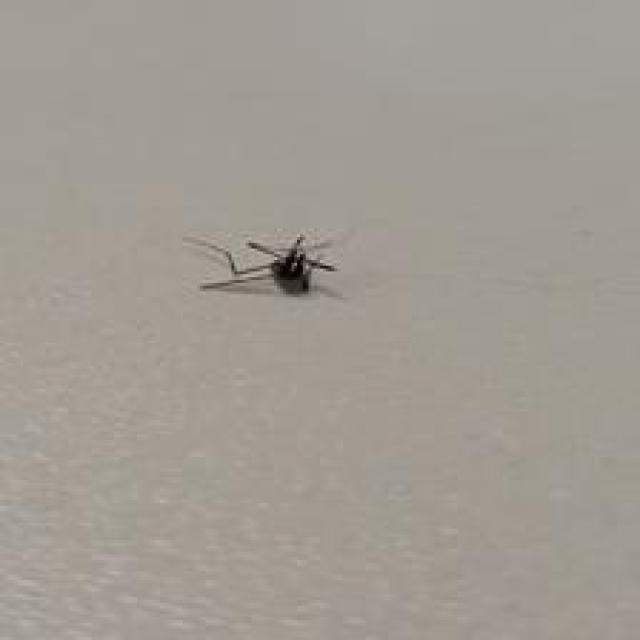Aedes albopictus: (183, 230, 337, 296)
